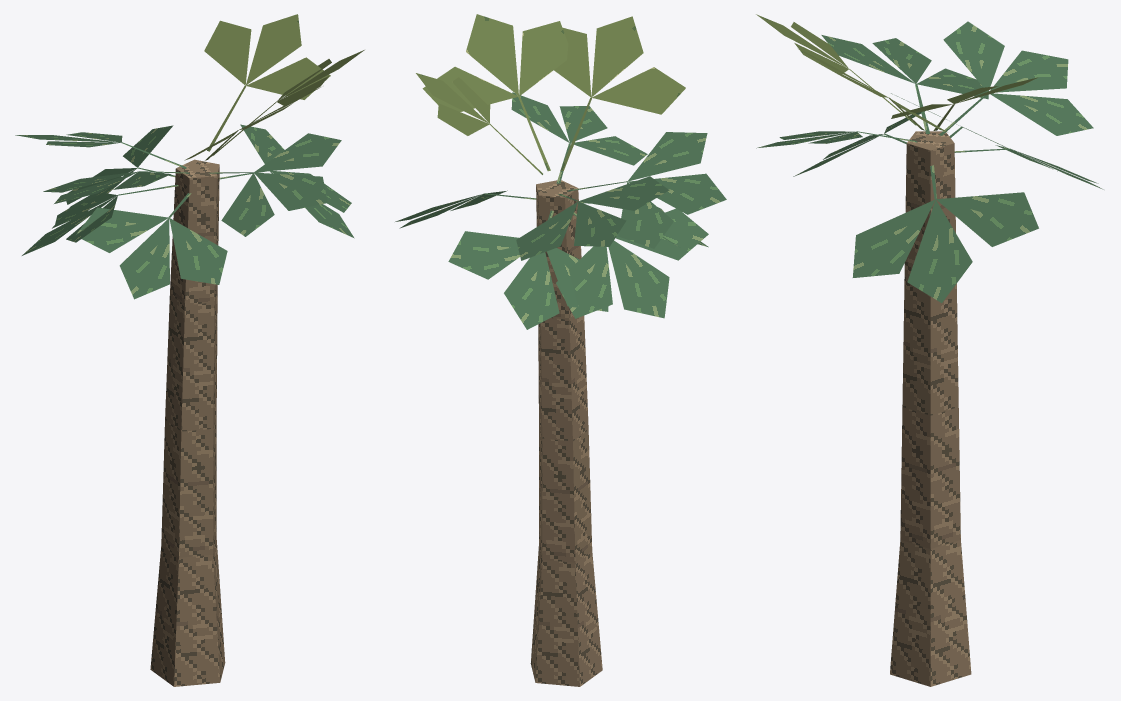
The model's file is california-fan-mid.glb.
3 renders of one model, left to right at view 1: azimuth 30°, elevation 25°; view 2: azimuth 150°, elevation 25°; view 3: azimuth 270°, elevation 25°, orthographic. The views are drawn at different scales.
Parts seen in each view (by area): view 1: crown_california-fan-mid, trunk_california-fan-mid; view 2: crown_california-fan-mid, trunk_california-fan-mid; view 3: trunk_california-fan-mid, crown_california-fan-mid.
Part boxes in pixels (x1=…): crown_california-fan-mid: x1=15, y1=14, x2=364, y2=299; trunk_california-fan-mid: x1=150, y1=159, x2=225, y2=686; crown_california-fan-mid: x1=395, y1=14, x2=726, y2=329; trunk_california-fan-mid: x1=530, y1=180, x2=602, y2=686; trunk_california-fan-mid: x1=890, y1=131, x2=971, y2=686; crown_california-fan-mid: x1=756, y1=14, x2=1103, y2=302.
Bounding box in the file's own units: 6.83 × 12.66 × 6.08.
2 materials, 2 textured.
